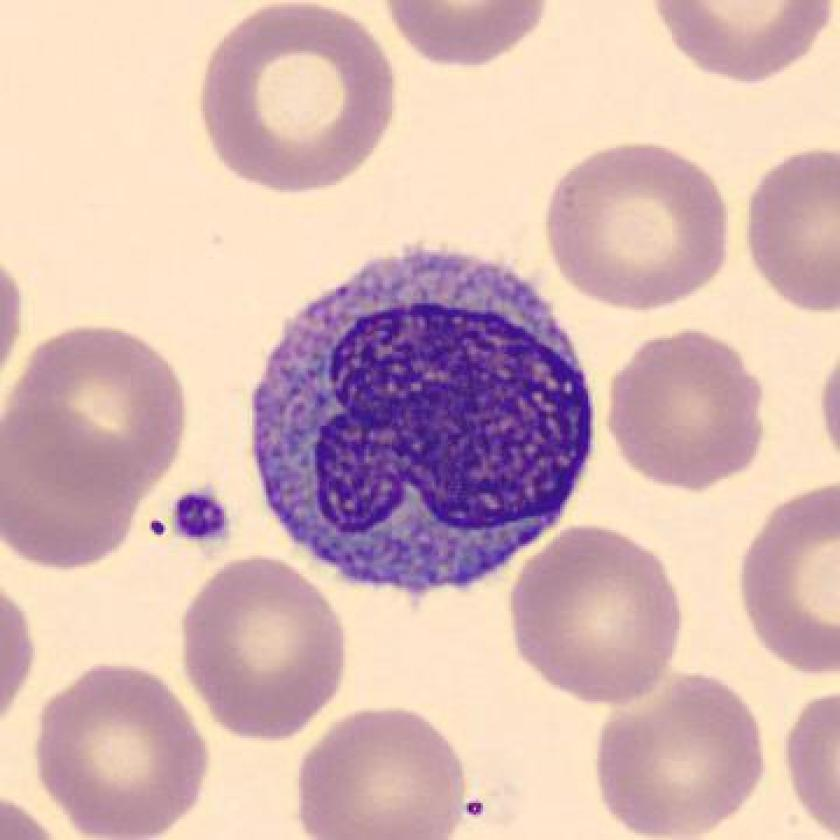monocyte: (230, 230, 612, 614)
